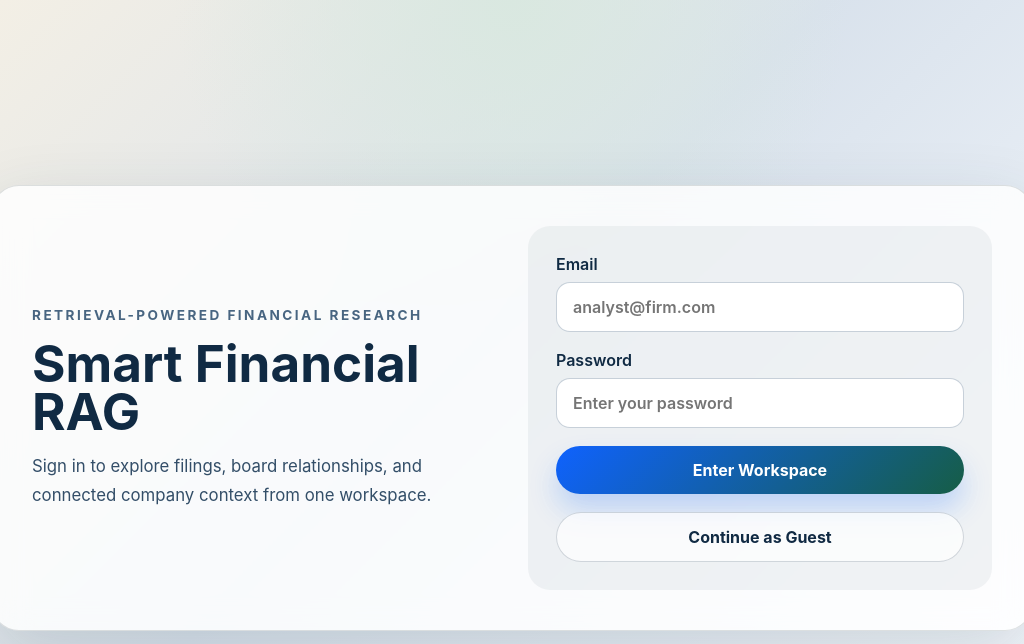
it: App routing › renders the landing page and enters the workspace
Expected: the heading "Smart Financial RAG" is shown, [32, 332, 420, 442]
Expected: the field labelled "Email" is shown, [556, 282, 964, 332]
Click the button "Enter Workspace". click: click(760, 470)
box: [556, 446, 964, 494]
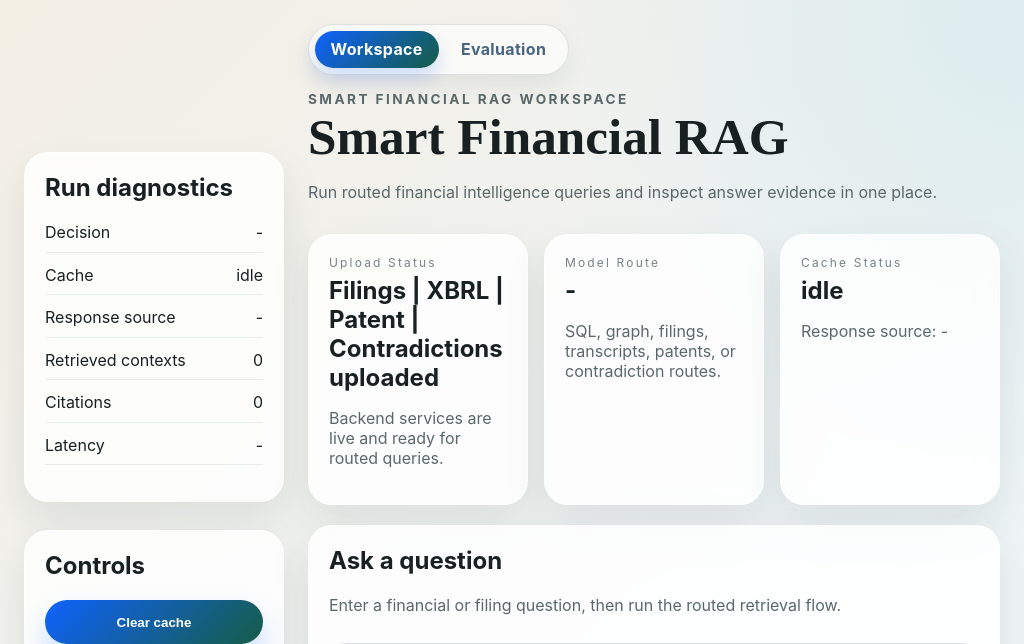
Expected: the heading "Ask a question" is shown, [329, 546, 502, 575]
